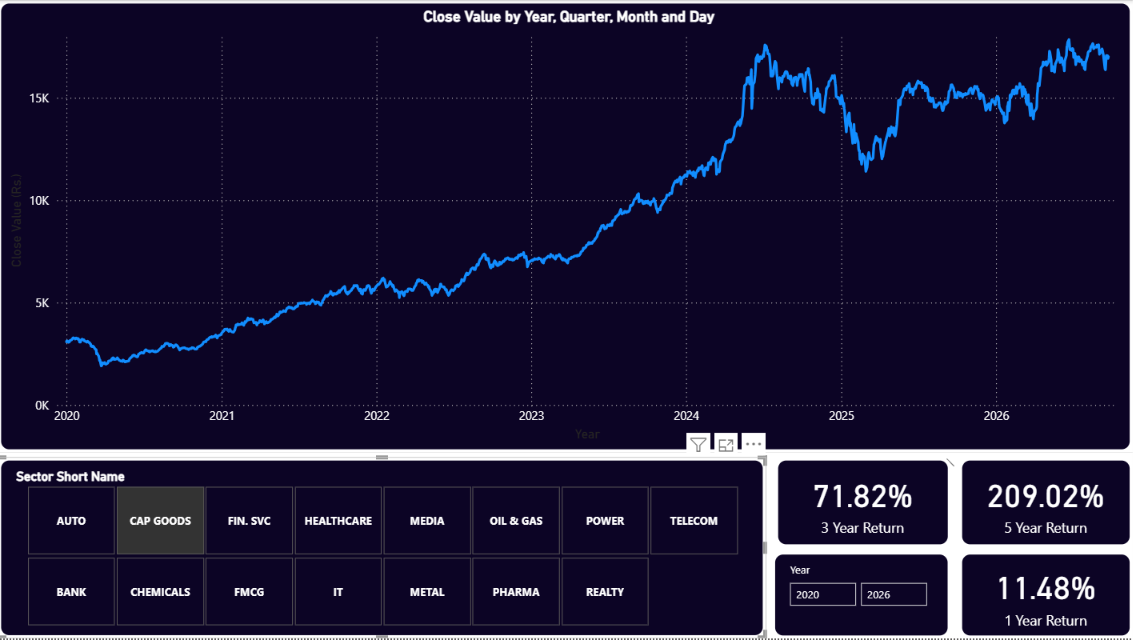

Layout of this report page (visuals, bound fields, positions):
{"tool":"powerbi","page":{"name":"Page 2","canvas":[1280,720],"ordinal":1},"visuals":[{"type":"lineChart","title":" Close Value by Year, Quarter, Month and Day","fields":{"Category":["Date Table.Date.Variation.Date Hierarchy.Year","Date Table.Date.Variation.Date Hierarchy.Quarter","Date Table.Date.Variation.Date Hierarchy.Month","Date Table.Date.Variation.Date Hierarchy.Day"],"Y":["Max(Combine Data.Close)"]},"box":[0,0,1280.2,510.5],"z":0},{"type":"slicer","fields":{"Values":["Combine Data.Sector Short Name"]},"box":[0,515.1,866.3,204.7],"z":1000},{"type":"slicer","fields":{"Values":["Date Table.Year"]},"box":[872.1,620.9,202.3,98.8],"z":1001},{"type":"card","fields":{"Values":["Combine Data.3 Year Return"]},"box":[875.6,514.5,198.8,102.3],"z":1002},{"type":"card","fields":{"Values":["Combine Data.5 Year Return"]},"box":[1083.7,514.5,196.5,102.3],"z":1003},{"type":"card","fields":{"Values":["Combine Data.1 Year Return"]},"box":[1083.7,620.9,196.5,98.8],"z":1004}]}

Visuals, with their boxes in screenshot pixels (x1, y1, x2, y2), scaled from the page's 1280x720 canvas onto the 1133x640 screenshot:
" Close Value by Year, Quarter, Month and Day" lineChart: [0,0,1132,454]
slicer - Combine Data.Sector Short Name: [0,458,767,639]
slicer - Date Table.Year: [772,552,951,639]
card - Combine Data.3 Year Return: [775,457,951,548]
card - Combine Data.5 Year Return: [959,457,1132,548]
card - Combine Data.1 Year Return: [959,552,1132,639]
